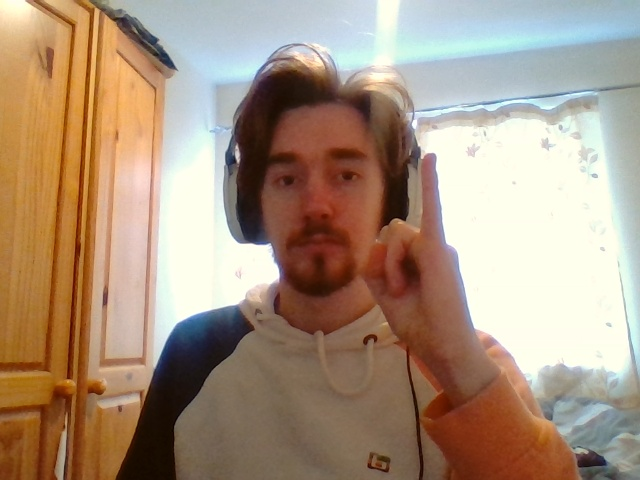bad: (364, 153, 459, 341)
